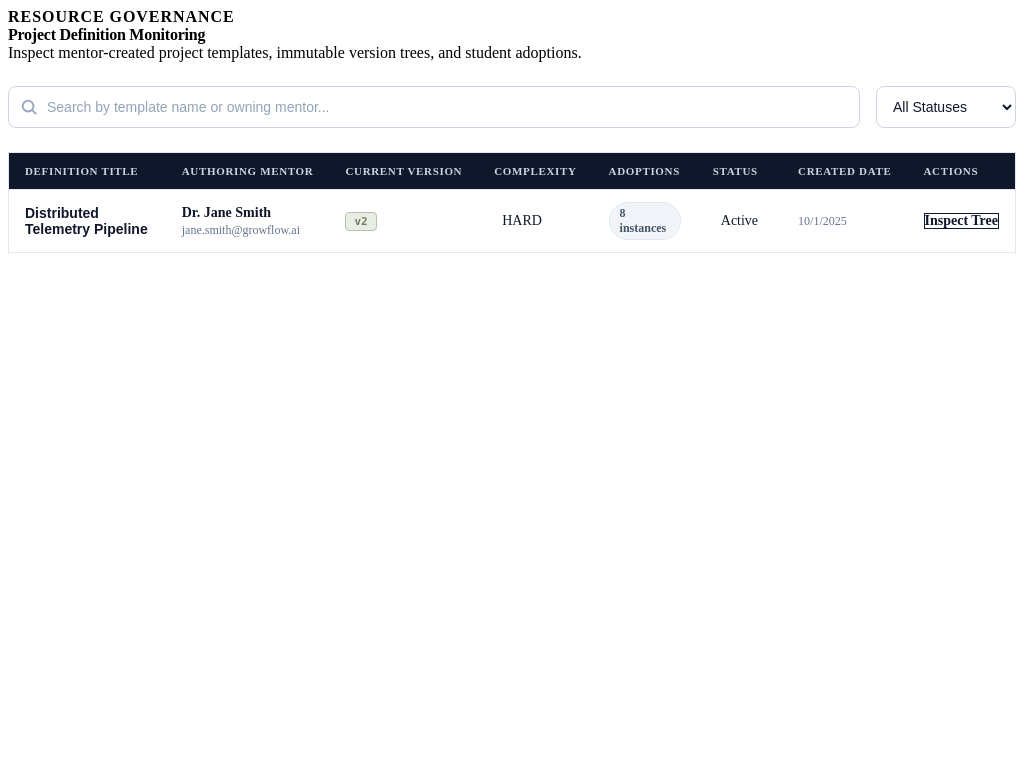
Scenario: GrowFlow Phase 7 Batch 7 Part 2 — Admin Governance Resources › AD09 — Definitions Monitoring (/admin/definitions) › renders definition catalog and opens version inspection drawer
The width and height of the screenshot is (1024, 768).
Check: the button "Distributed Telemetry Pipeline" is shown, box [25,204,150,236]
Check: the text "v2" is shown, box [345,212,377,230]
# Open version inspection modal
Click the button "Inspect Tree" at (961, 221), box [924,213,999,229]
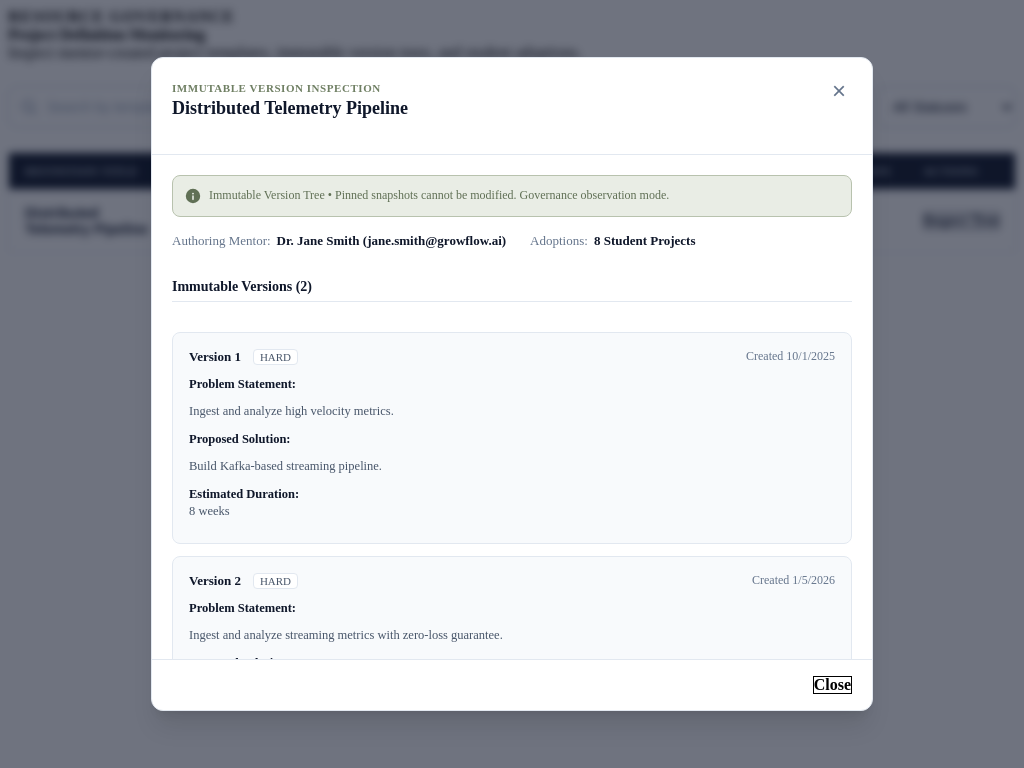
Check: the heading "Immutable Versions (2)" is shown, box [172,278,852,302]
Check: the text "Version 1" is shown, box [189,348,241,364]
Check: the text "Version 2" is shown, box [189,572,241,588]
# Close modal
Click the button named "Close modal" at (839, 91), box [826,78,852,104]
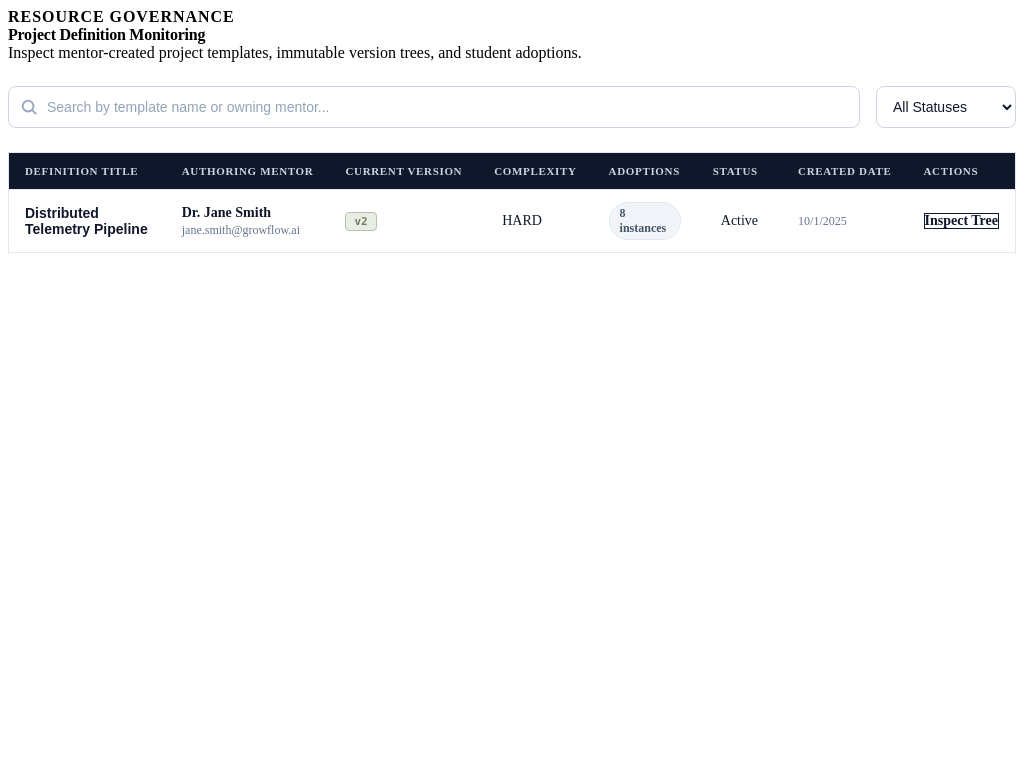
Check: the heading "Immutable Versions (2)" is gone
